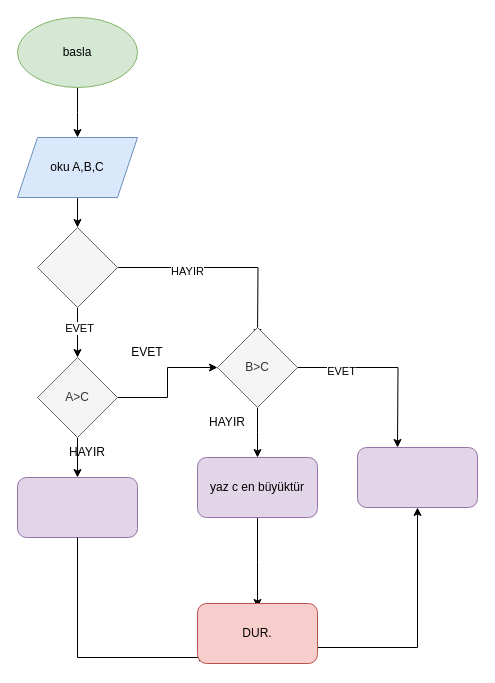
Some shapes in this 495 by 683 pixel diagram are drawn without their labels. The centre of each missing label's shape, as x and y in pixels:
A>B: the point at 77,267
yaz a en büyüktür: the point at 77,507
YAZ B en büyüktür: the point at 417,477
